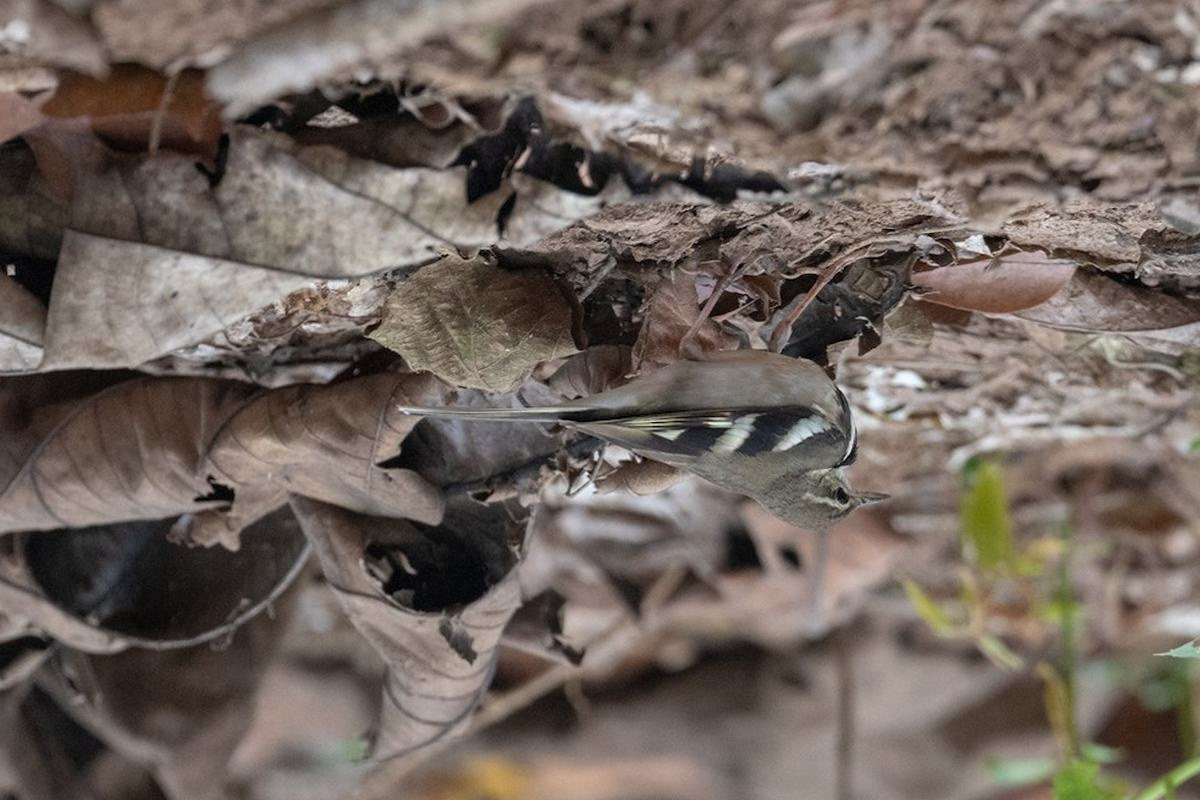wagtail: (521, 305, 894, 555)
